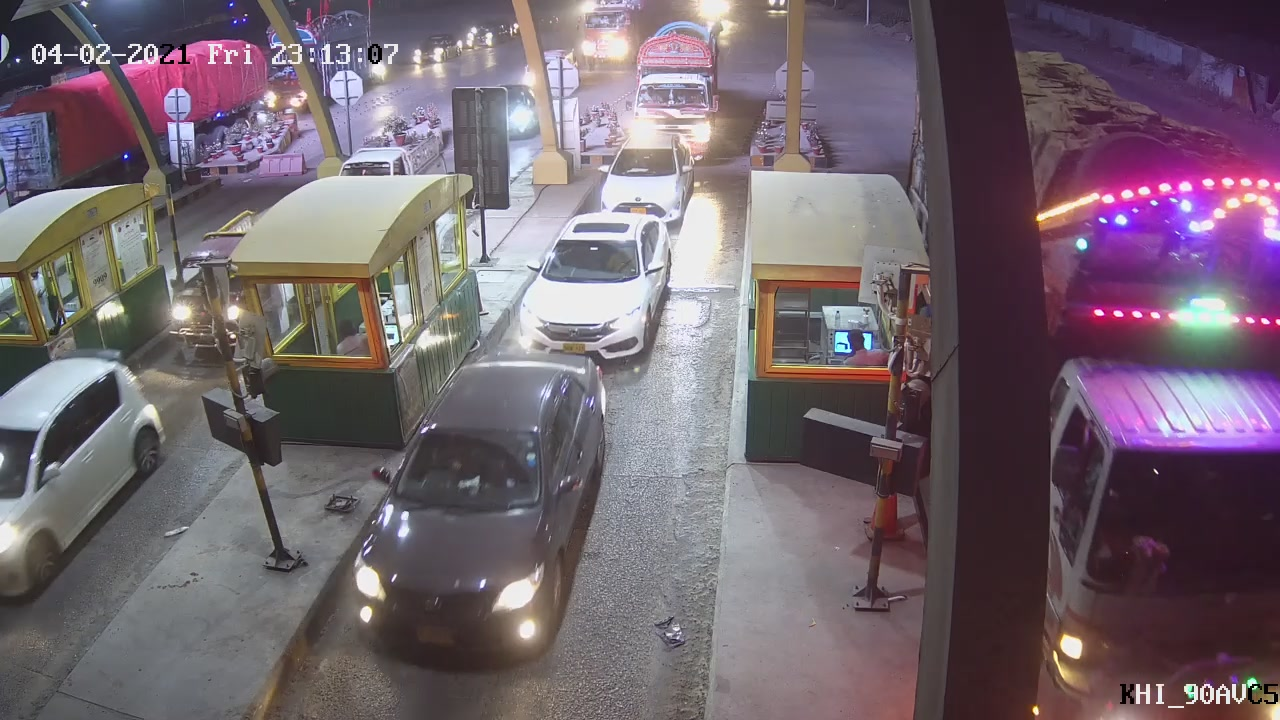F1: (342, 351, 610, 663), (507, 203, 680, 368)
